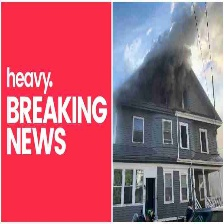smoke: (119, 1, 211, 92)
